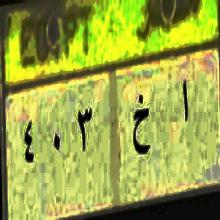0: (49, 119, 65, 172)
3: (74, 99, 95, 157)
4: (18, 112, 38, 172)
alif: (174, 70, 194, 133)
khaa: (129, 88, 152, 165)
